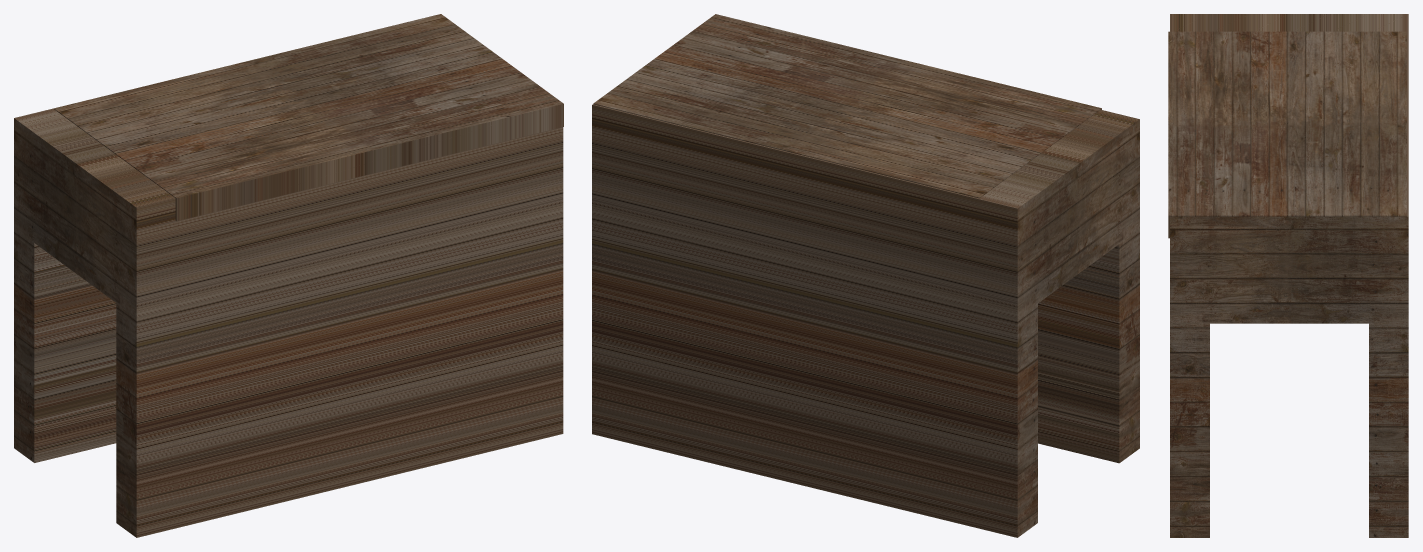
The model's file is House.fbx.
3 views of the same model, side by side, from view 1: azimuth 30°, elevation 25°; view 2: azimuth 150°, elevation 25°; view 3: azimuth 270°, elevation 25° (orthographic). The views are drawn at different scales.
Parts seen in each view (by area): view 1: Plane.003, Plane.002, Plane.004; view 2: Plane.003, Plane.004, Plane.002; view 3: Plane.002, Plane.003, Plane.004.
Boxes of the visible parts, x1,y1,x2,y2 form: Plane.003: (52, 14, 563, 528); Plane.002: (54, 14, 563, 221); Plane.004: (14, 109, 177, 537); Plane.003: (592, 104, 1102, 528); Plane.004: (977, 110, 1139, 537); Plane.002: (593, 14, 1101, 198); Plane.002: (1168, 31, 1406, 238); Plane.003: (1170, 31, 1408, 537); Plane.004: (1170, 14, 1408, 31).
Size of the model in its own units: 2188 by 1622 by 1098.
